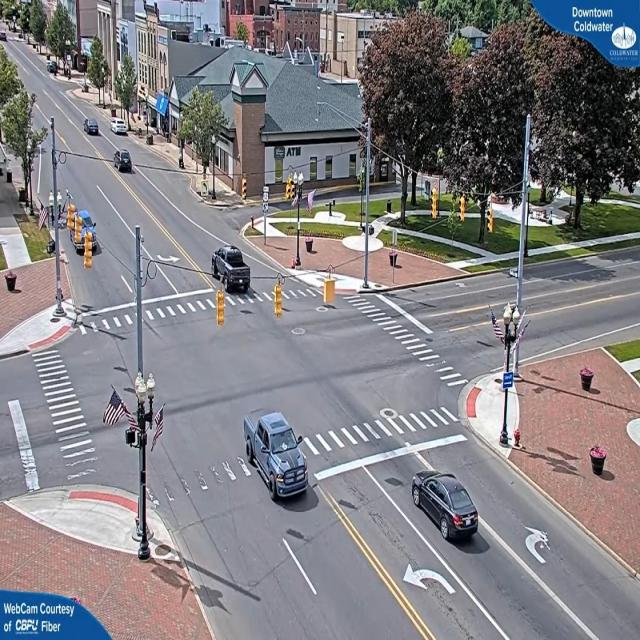car: (244, 412, 310, 504), (411, 469, 479, 544), (211, 245, 252, 293), (112, 120, 128, 136)
